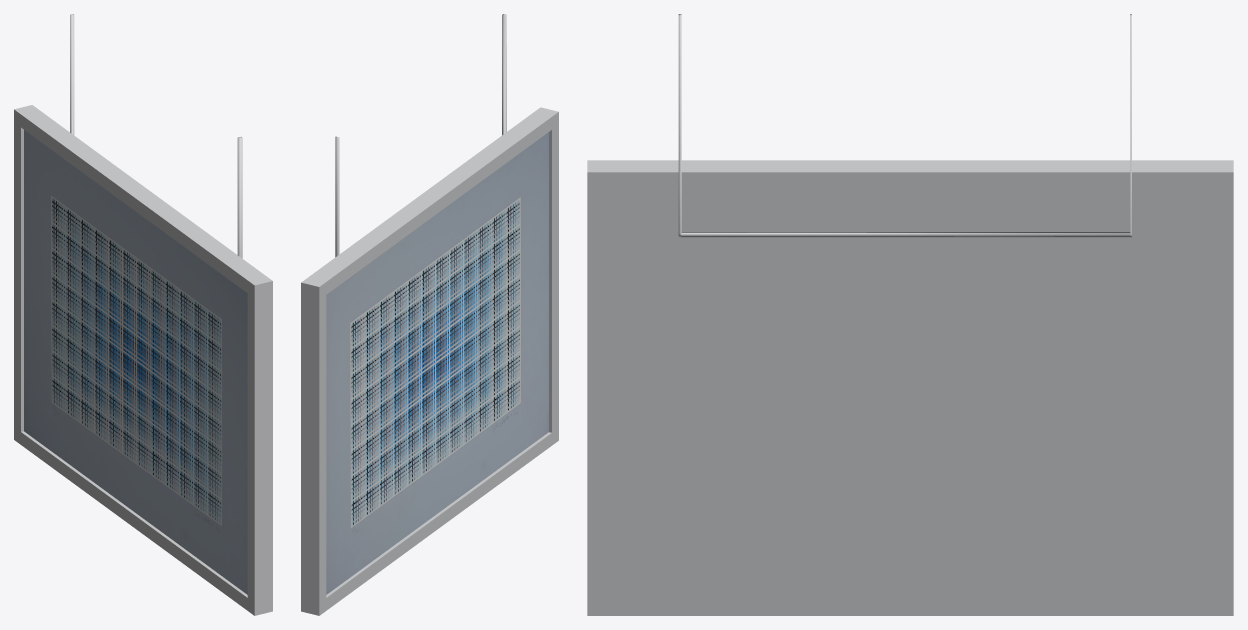
3 views of the same model, side by side, from view 1: azimuth 30°, elevation 25°; view 2: azimuth 150°, elevation 25°; view 3: azimuth 270°, elevation 25° (orthographic). The views are drawn at different scales.
Parts seen in each view (by area): view 1: KG2019DK437; view 2: KG2019DK437; view 3: KG2019DK437.
Part boxes in pixels (box(x1,y1,x2,y2)): KG2019DK437: box(14, 14, 272, 615); KG2019DK437: box(301, 14, 558, 615); KG2019DK437: box(587, 14, 1233, 615).
Bounding box in the file's own units: 0.1897 × 3.7 × 3.6.
2 materials, 1 textured.
